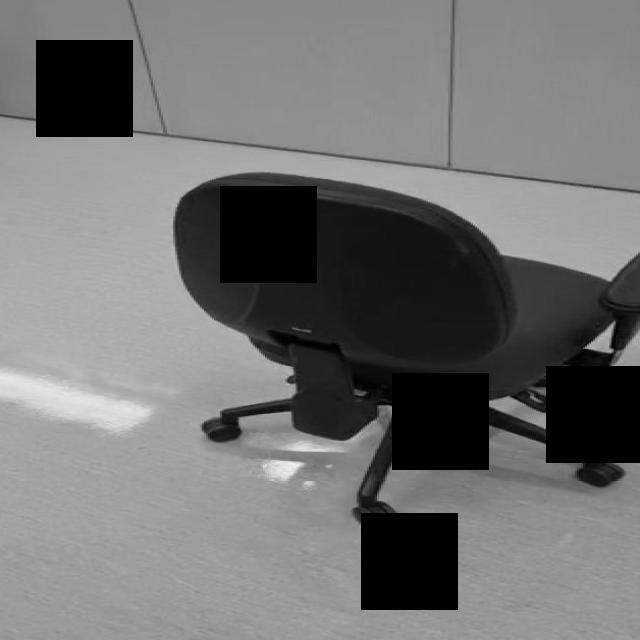chair: (173, 171, 640, 529)
